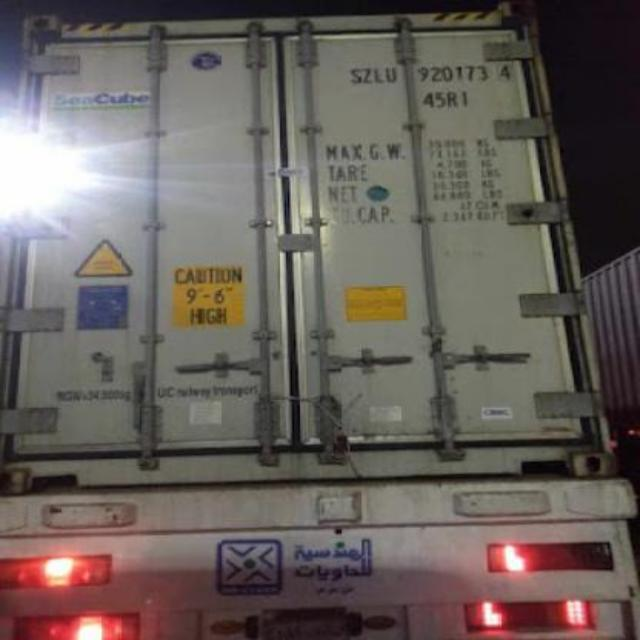0: (441, 54, 454, 84)
1: (452, 62, 464, 82)
2: (426, 61, 439, 85)
3: (474, 59, 490, 85)
4: (496, 61, 516, 84)
7: (464, 54, 474, 90)
9: (414, 62, 428, 84)
L: (372, 61, 384, 87)
S: (348, 62, 360, 88)
U: (384, 63, 396, 87)
Z: (360, 60, 372, 90)
